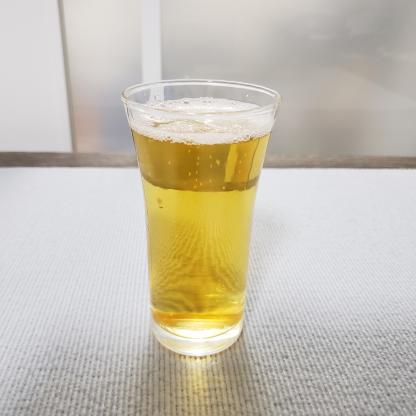glass: (112, 65, 289, 364)
